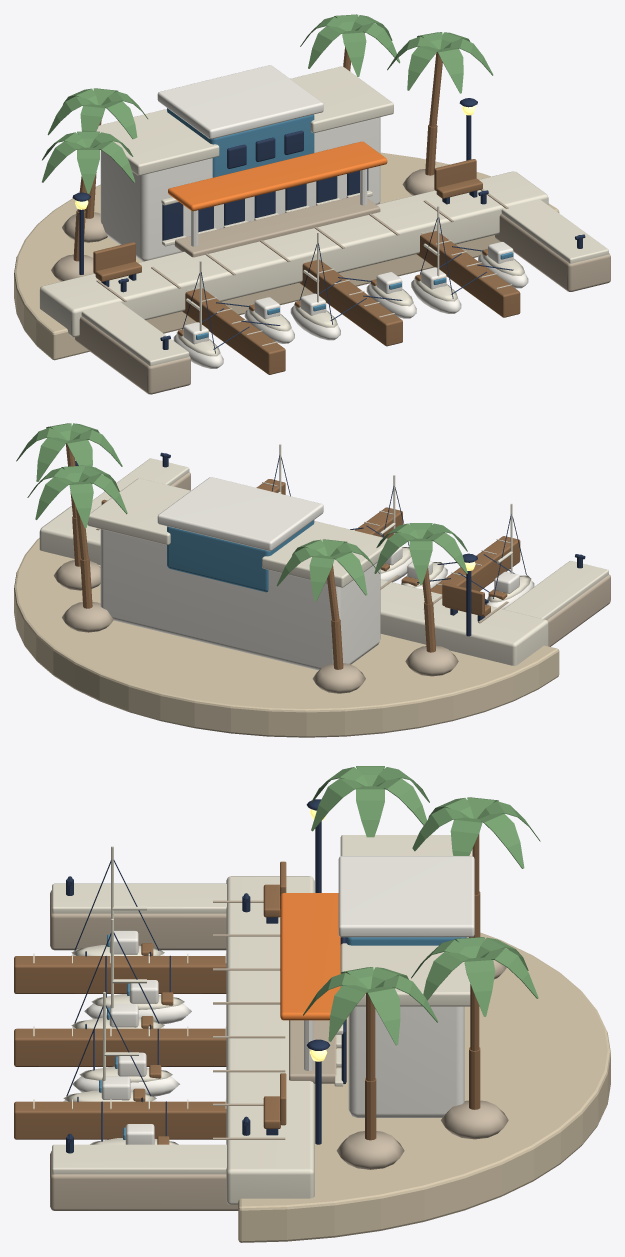
The model's file is cala.glb.
3 renders of one model, top to bottom at view 1: azimuth 30°, elevation 25°; view 2: azimuth 150°, elevation 25°; view 3: azimuth 270°, elevation 25°, orthographic. The views are drawn at different scales.
Visible parts, largest first — view 1: static_cala; view 2: static_cala; view 3: static_cala.
Boxes of the visible parts, x1,y1,x2,y2 form: static_cala: [14, 14, 610, 394]; static_cala: [14, 423, 610, 737]; static_cala: [14, 766, 610, 1242].
Bounding box in the file's own units: 1.86 × 0.6108 × 1.49.
